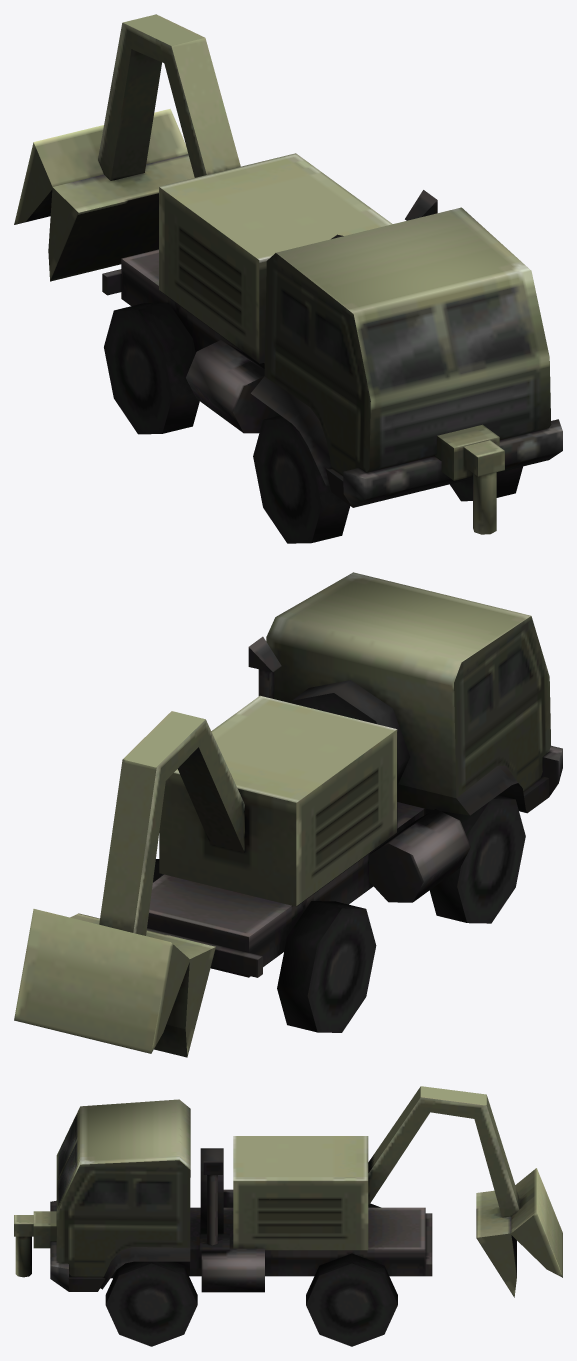
File: SEE.DAE
The picture shows the model from 3 angles, top to bottom: view 1: azimuth 30°, elevation 25°; view 2: azimuth 150°, elevation 25°; view 3: azimuth 270°, elevation 25°; orthographic projection. The views are drawn at different scales.
Visible parts, largest first — view 1: _1108_SEE; view 2: _1108_SEE; view 3: _1108_SEE.
Boxes of the visible parts, bbox=[...] form: _1108_SEE: bbox=[14, 14, 562, 543]; _1108_SEE: bbox=[14, 572, 562, 1057]; _1108_SEE: bbox=[14, 1086, 562, 1346].
Size of the model in its own units: 72.85 by 96.43 by 217.
1 material, 1 textured.
